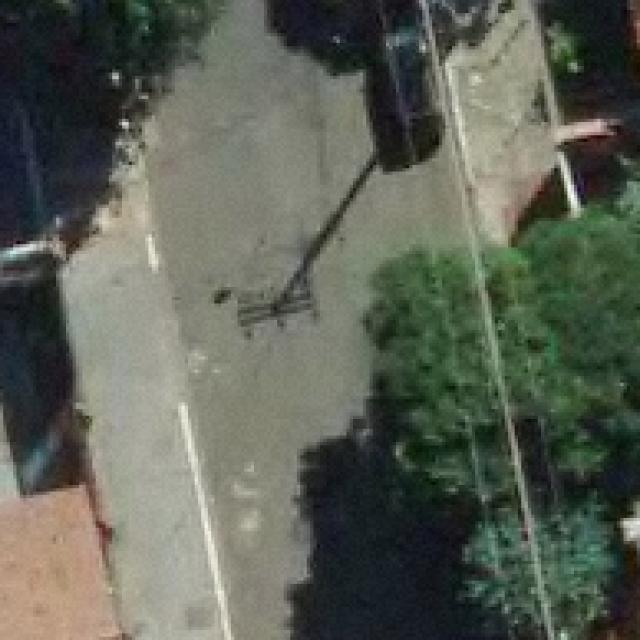trees: (489, 212, 640, 511), (370, 258, 512, 504), (1, 1, 225, 95), (539, 509, 621, 639), (466, 512, 539, 631), (621, 176, 640, 239)
